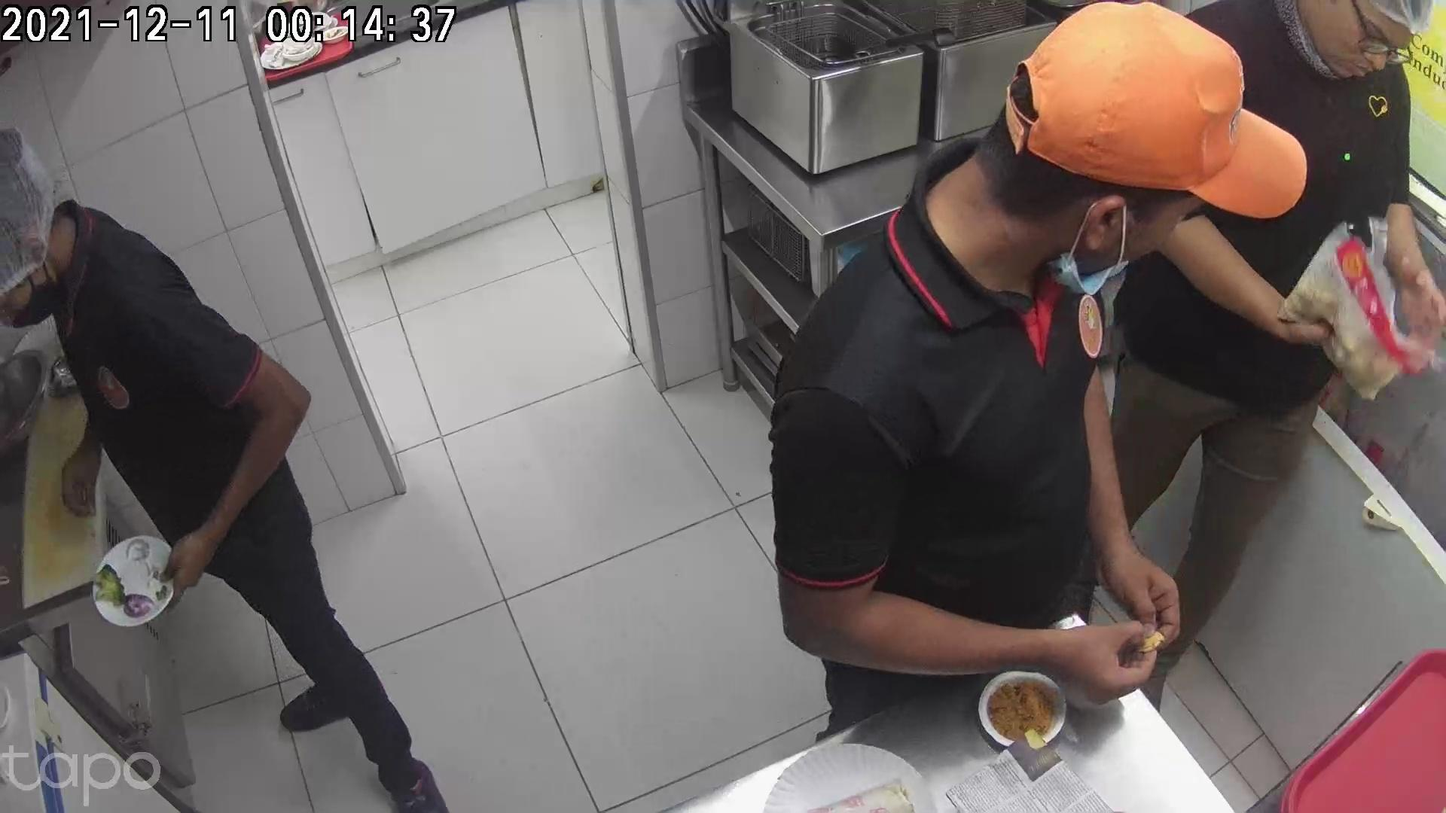gloves: (878, 622, 1001, 749)
no_gloves: (1039, 598, 1113, 715)
